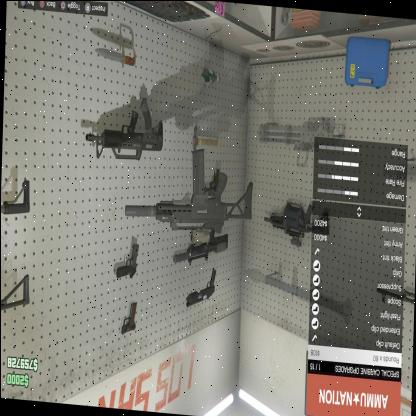rifle: (114, 150, 262, 244)
